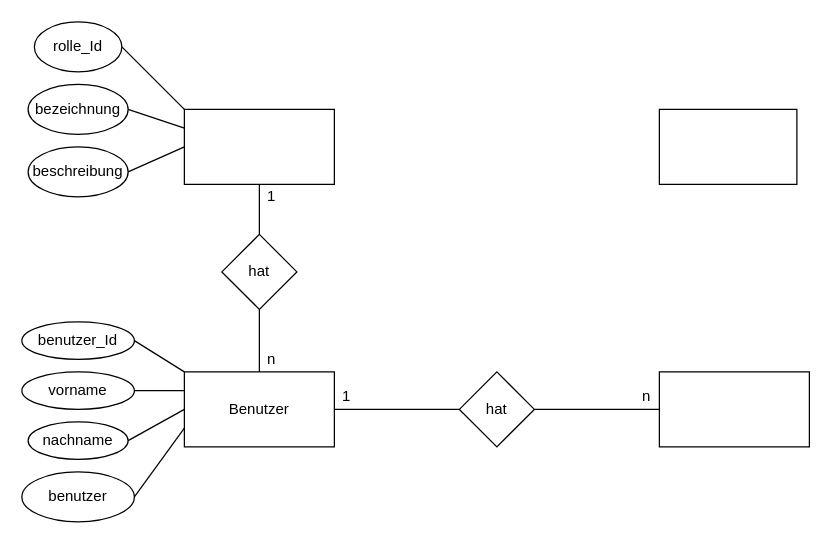
Image size: 831x544. Some labels were removed from this diagram. Here are the shapes that lost their labels. From the top down, the box of each, then its label:
(183, 108, 334, 184): Rolle
(658, 108, 797, 184): Platz
(658, 371, 809, 447): Buchung
